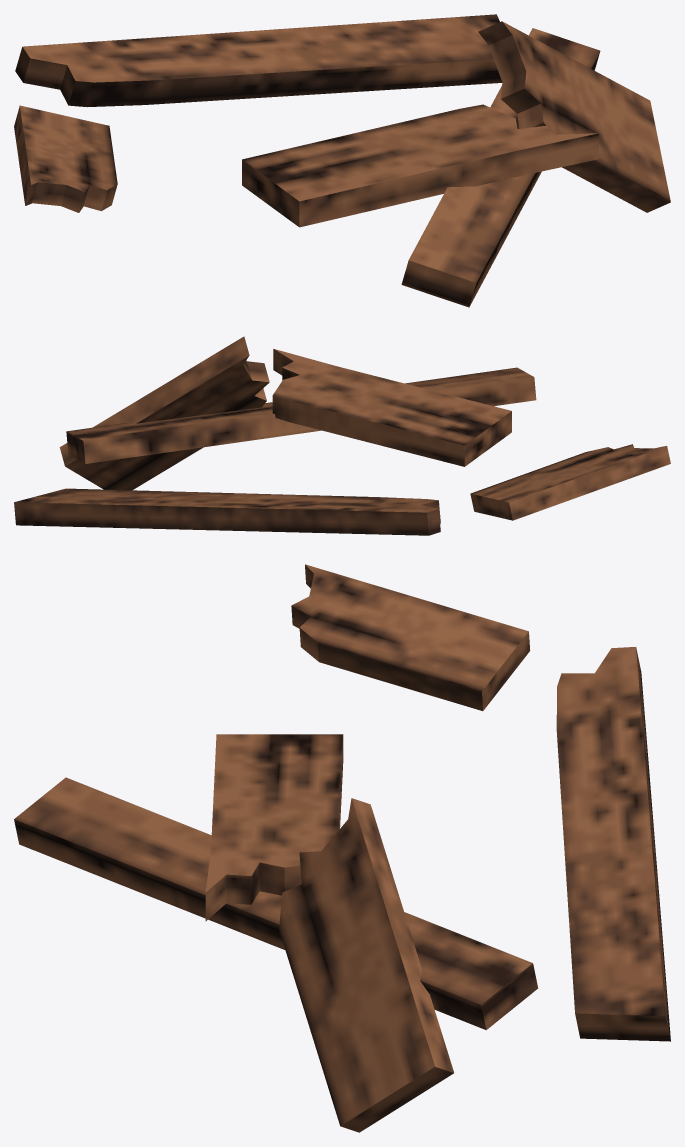
File: MESH_DEBRI_Wood5.fbx
3 views of the same model, one above another, from view 1: azimuth 30°, elevation 25°; view 2: azimuth 150°, elevation 25°; view 3: azimuth 270°, elevation 25° (orthographic). The views are drawn at different scales.
Parts seen in each view (by area): view 1: MESH_DEBRI_Wood5; view 2: MESH_DEBRI_Wood5; view 3: MESH_DEBRI_Wood5.
Part boxes in pixels (box(x1,y1,x2,y2)): MESH_DEBRI_Wood5: box(14, 14, 670, 307); MESH_DEBRI_Wood5: box(14, 336, 670, 535); MESH_DEBRI_Wood5: box(14, 564, 670, 1132).
Size of the model in its own units: 2.75 by 0.8868 by 2.07.
